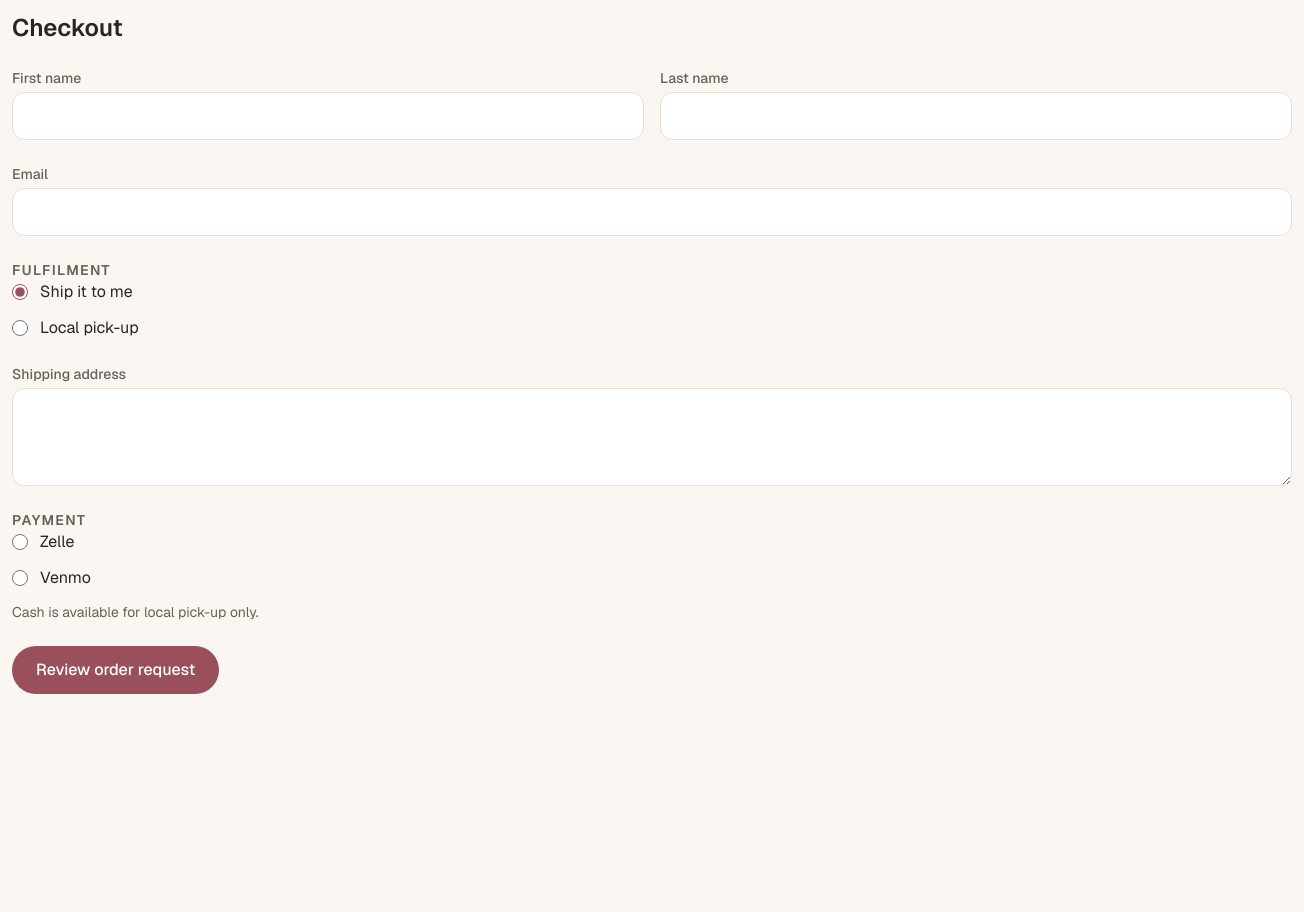
Test: OrderForm › [SHOP-9] cash is offered for pick-up but not for shipping
Click the radio button labelled "Local pick-up": (20, 328) [12,320,28,336]
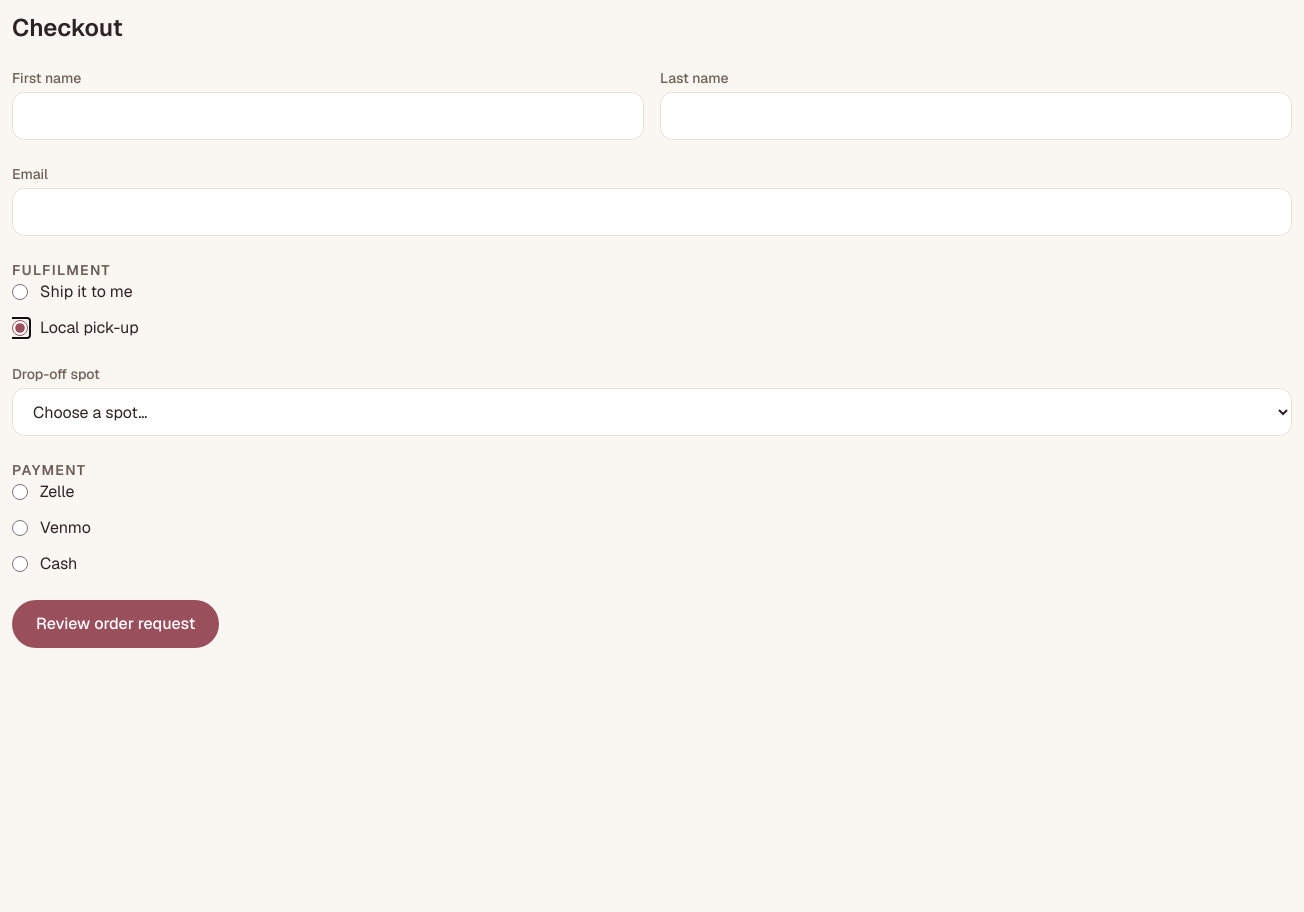
Now the radio button labelled "Cash" is shown, box [12,556,28,572]
